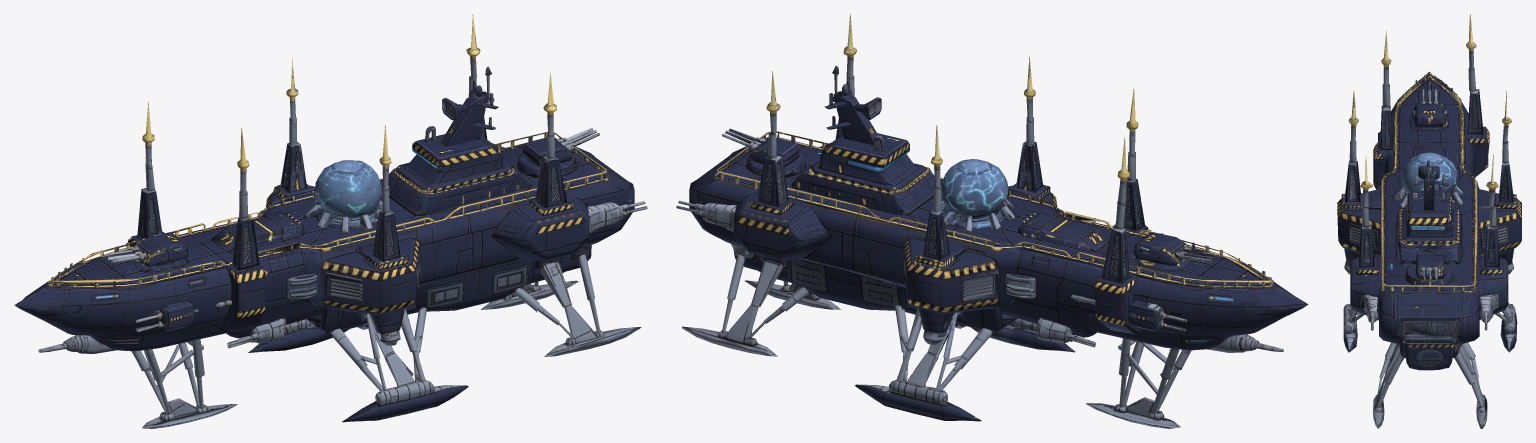
Rendered from raijin.glb.
The picture shows the model from 3 angles, left to right: view 1: azimuth 30°, elevation 25°; view 2: azimuth 150°, elevation 25°; view 3: azimuth 270°, elevation 25°; orthographic projection. The views are drawn at different scales.
Size of the model in its own units: 0.9575 by 0.4619 by 0.311.
1 material, 1 textured.
